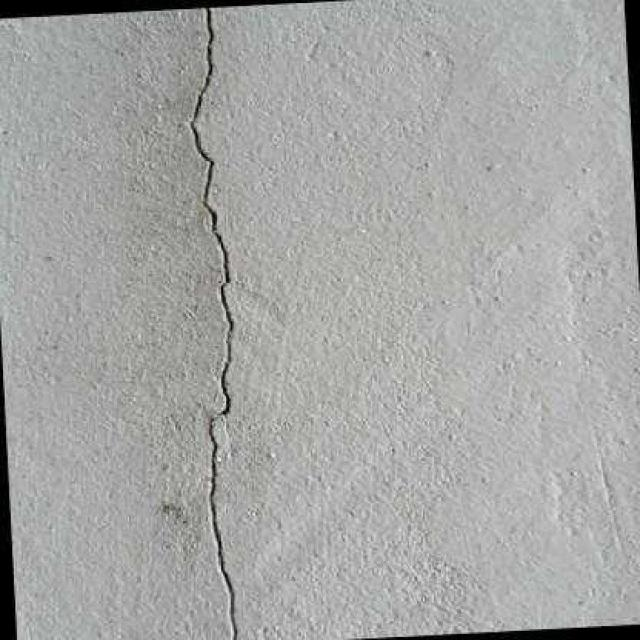D00: (189, 5, 237, 640)
